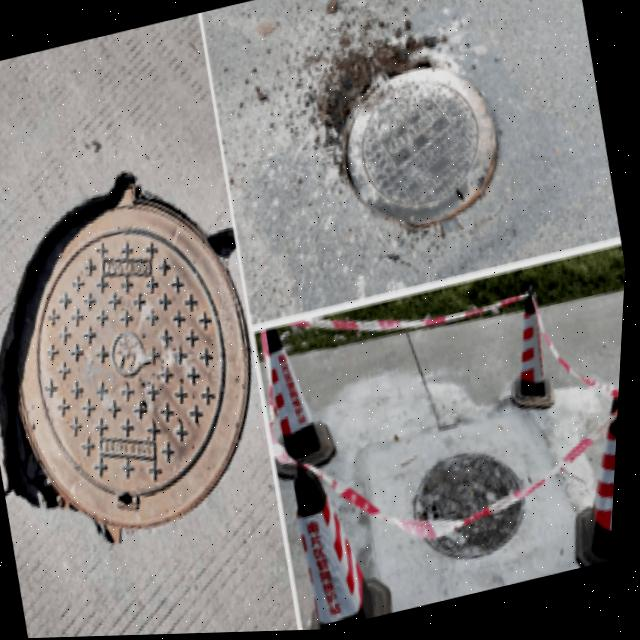manhole: (0, 152, 296, 573)
